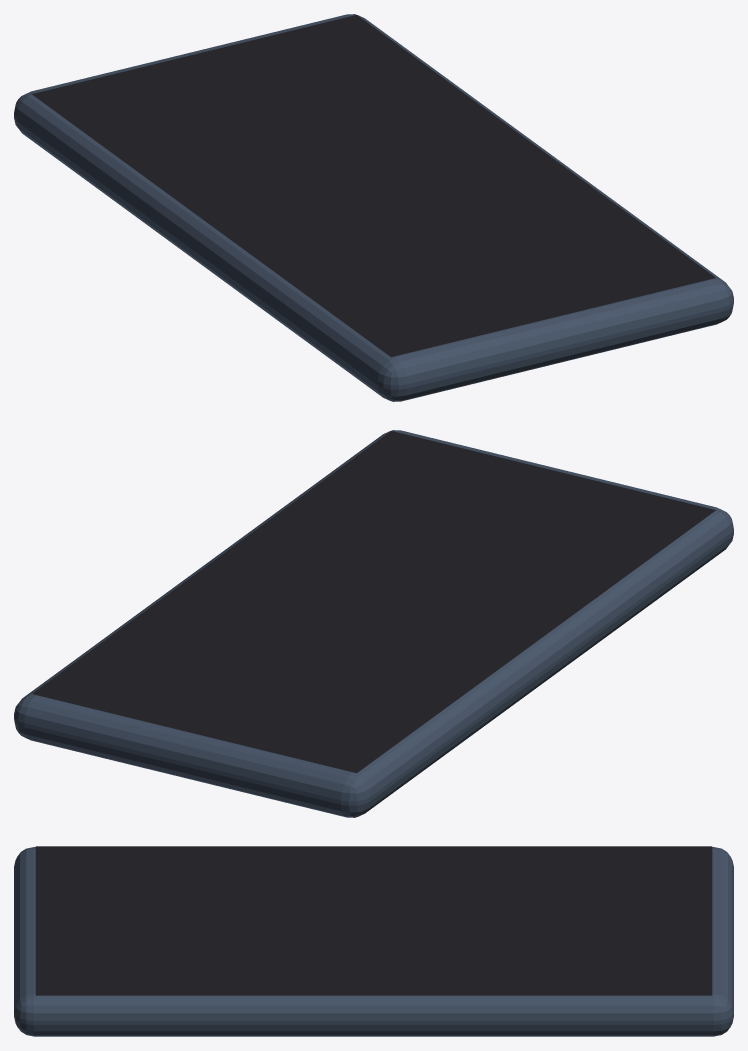
Rendered from Phone_113.glb.
The picture shows the model from 3 angles, top to bottom: view 1: azimuth 30°, elevation 25°; view 2: azimuth 150°, elevation 25°; view 3: azimuth 270°, elevation 25°; orthographic projection. The views are drawn at different scales.
Parts seen in each view (by area): view 1: Phone_Screen, Phone_Body; view 2: Phone_Screen, Phone_Body; view 3: Phone_Screen, Phone_Body.
Part boxes in pixels (left/top/right/bottom): Phone_Screen: left=32, top=15, right=715, bottom=357; Phone_Body: left=14, top=14, right=733, bottom=401; Phone_Screen: left=32, top=431, right=715, bottom=773; Phone_Body: left=14, top=430, right=733, bottom=817; Phone_Screen: left=35, top=846, right=712, bottom=995; Phone_Body: left=14, top=847, right=733, bottom=1036.
Size of the model in its own units: 0.0767 by 0.009 by 0.1437.
